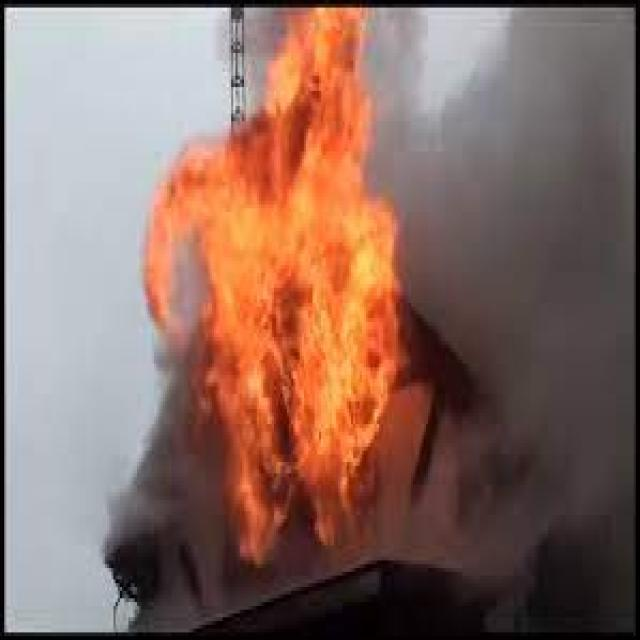Fire: (192, 153, 406, 530)
Smoke: (411, 11, 640, 634)
